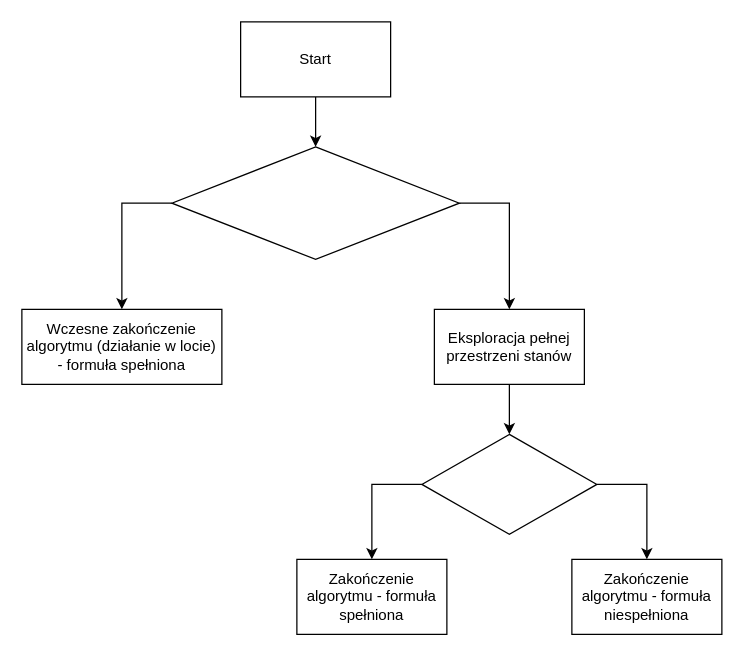
This 744x656 diagram has some shape labels left out. The centre of each missing label's shape, as x and y in pixels:
Graf zawiera cykl akceptujący: pixel 509 483
Graf zawiera wykrywalny przez heurystykę cykl akceptujący: pixel 315 202
